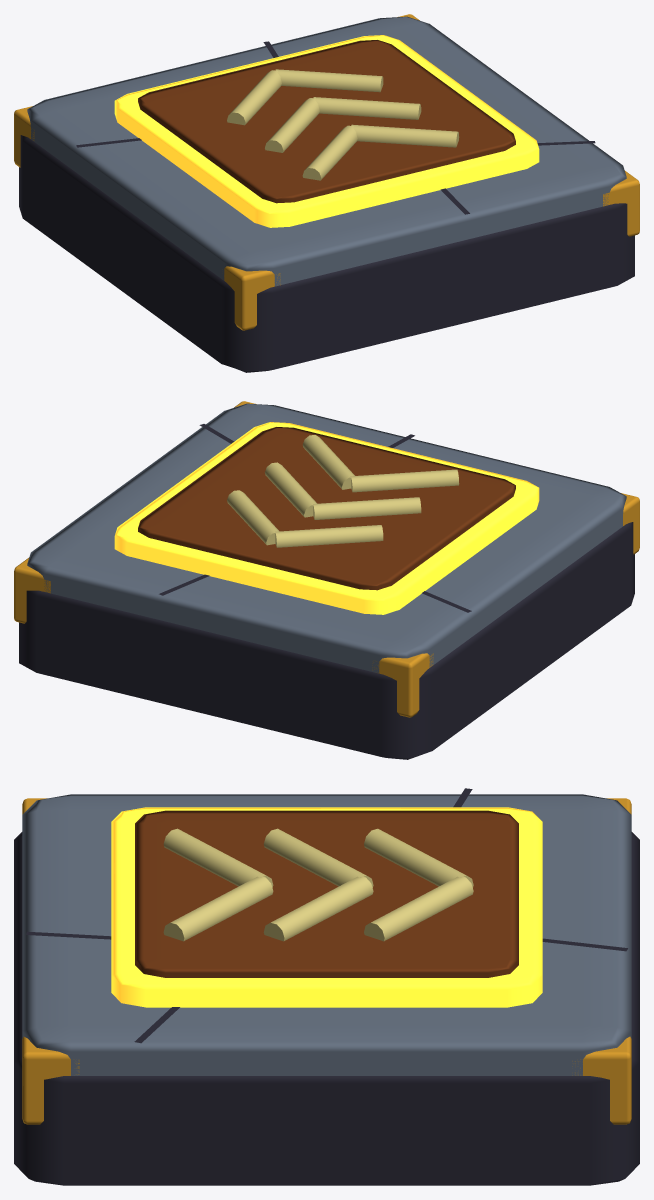
Rendered from cityscape-burst.glb.
3 views of the same model, one above another, from view 1: azimuth 30°, elevation 25°; view 2: azimuth 150°, elevation 25°; view 3: azimuth 270°, elevation 25° (orthographic). The views are drawn at different scales.
Parts seen in each view (by area): view 1: cityscape_burst_tile; view 2: cityscape_burst_tile; view 3: cityscape_burst_tile.
Boxes of the visible parts, box(x1,y1,x2,y2) form: cityscape_burst_tile: box(14, 14, 639, 372); cityscape_burst_tile: box(14, 401, 639, 759); cityscape_burst_tile: box(14, 788, 639, 1185).
Size of the model in its own units: 2.25 by 0.7373 by 2.25.
